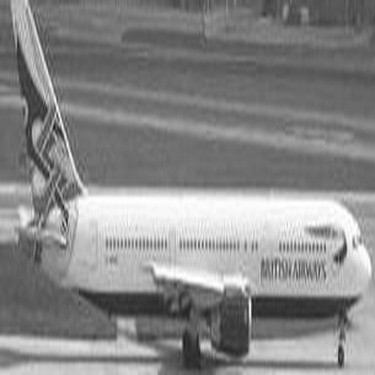airplane: (1, 5, 367, 371)
